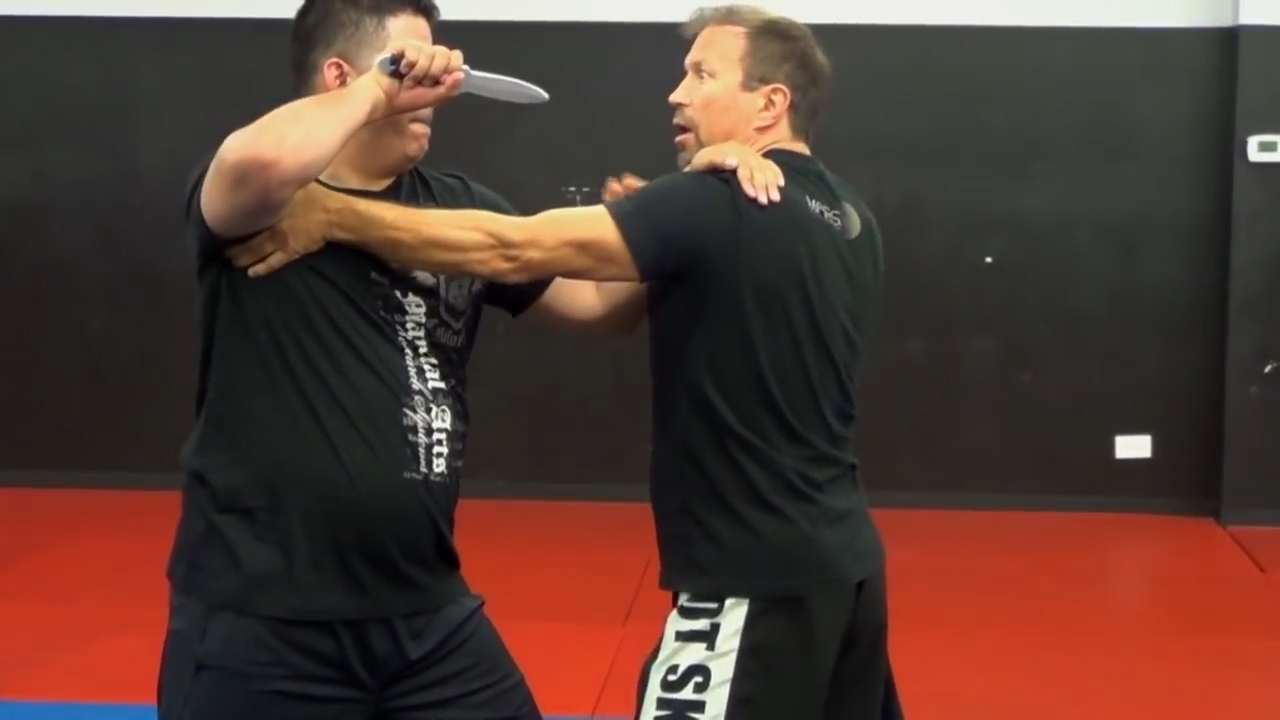knife: (370, 39, 557, 114)
